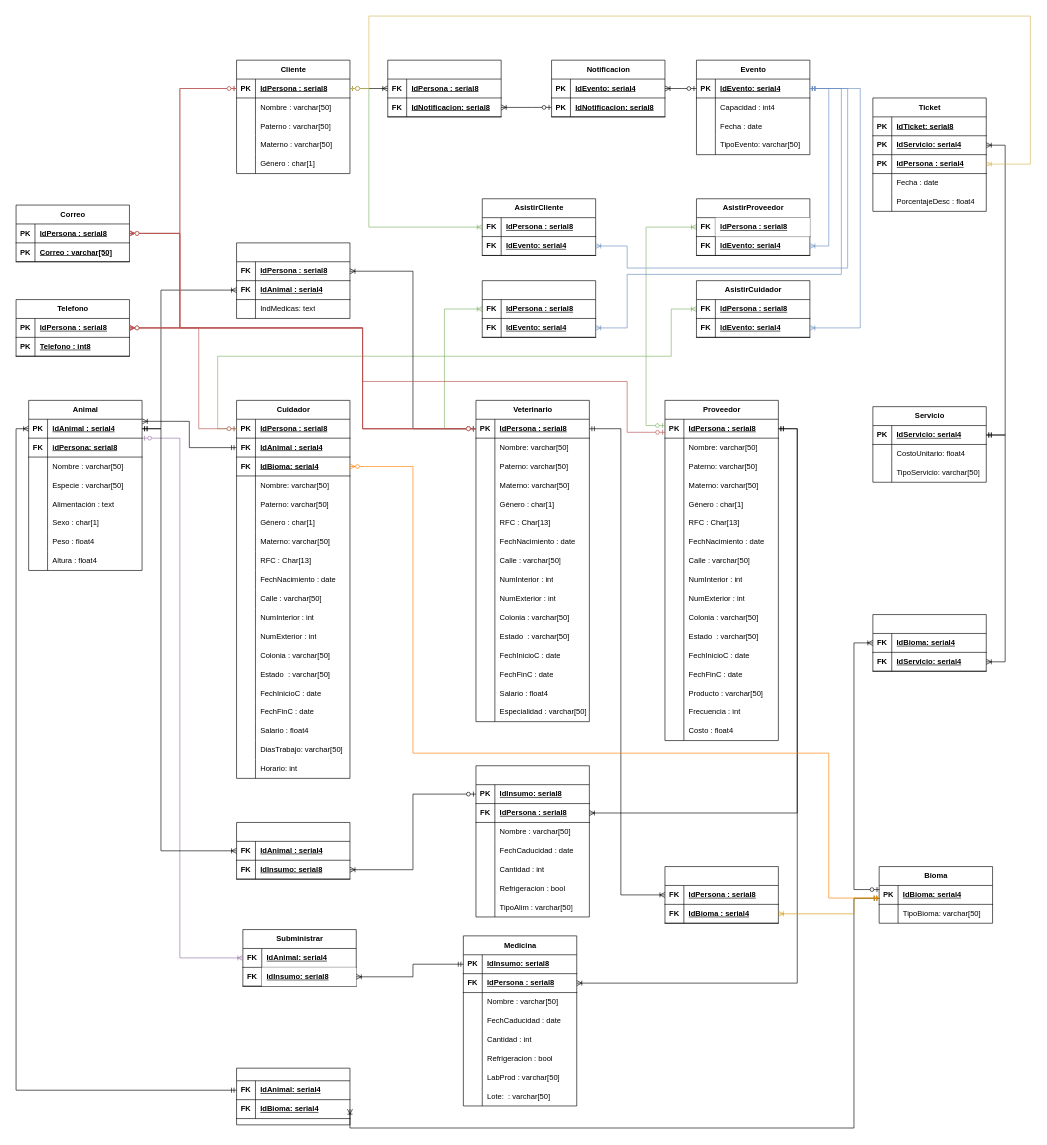
This 1047x1145 diagram has some shape labels left out. Here are the shapes that lost their labels. From the top down, the box of each, then its label:
(387, 60, 501, 117): Notificar
(236, 242, 350, 318): Atender
(482, 280, 596, 337): AsistirVeterinario
(872, 614, 986, 671): Ofrecer
(236, 822, 350, 879): Alimentar
(475, 765, 589, 917): Alimento
(664, 866, 778, 923): Laborar
(236, 1068, 350, 1125): Jaula
